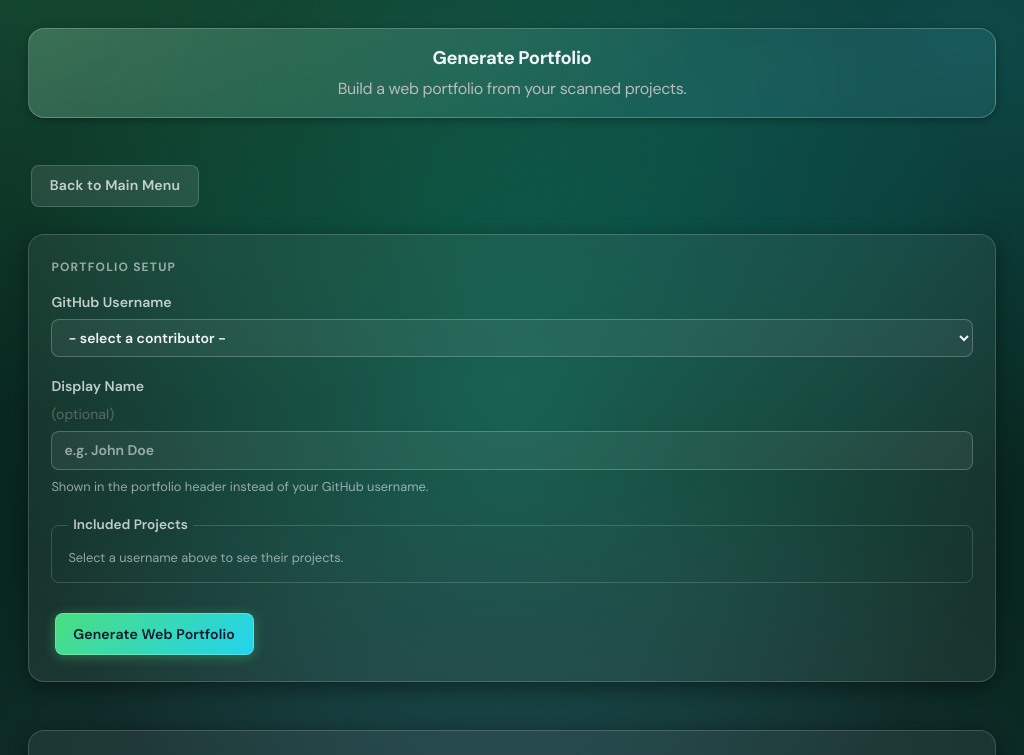
it: PortfolioPage › shows error when generate clicked without selecting username
Click the button "Generate Web Portfolio" at (154, 634), box x1=55 y1=613 x2=254 y2=655
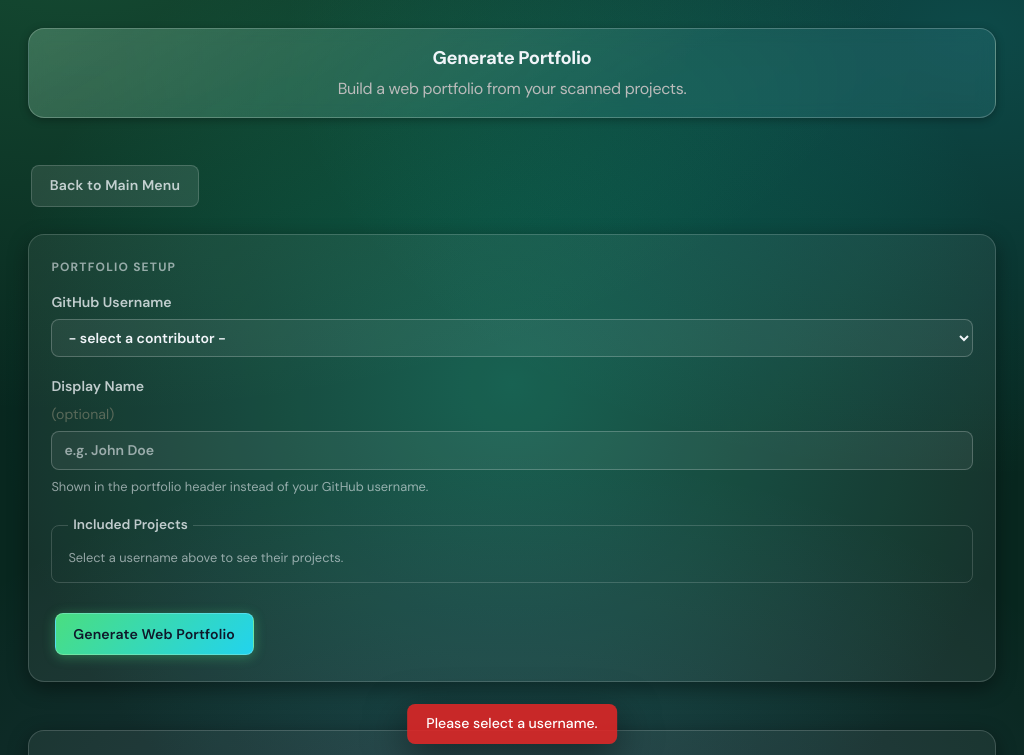
Check: the text "Please select a username." is shown, box x1=407 y1=704 x2=617 y2=744
